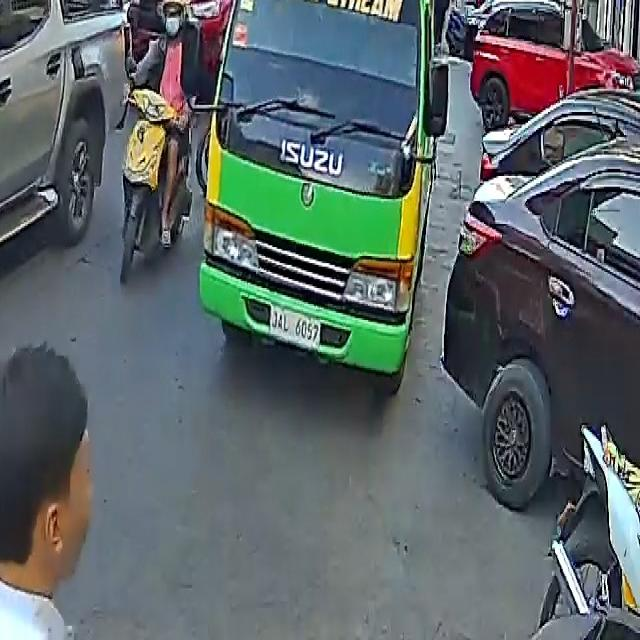car: (443, 107, 640, 513), (0, 0, 131, 377), (469, 0, 639, 132), (131, 0, 268, 41), (83, 0, 180, 7)
